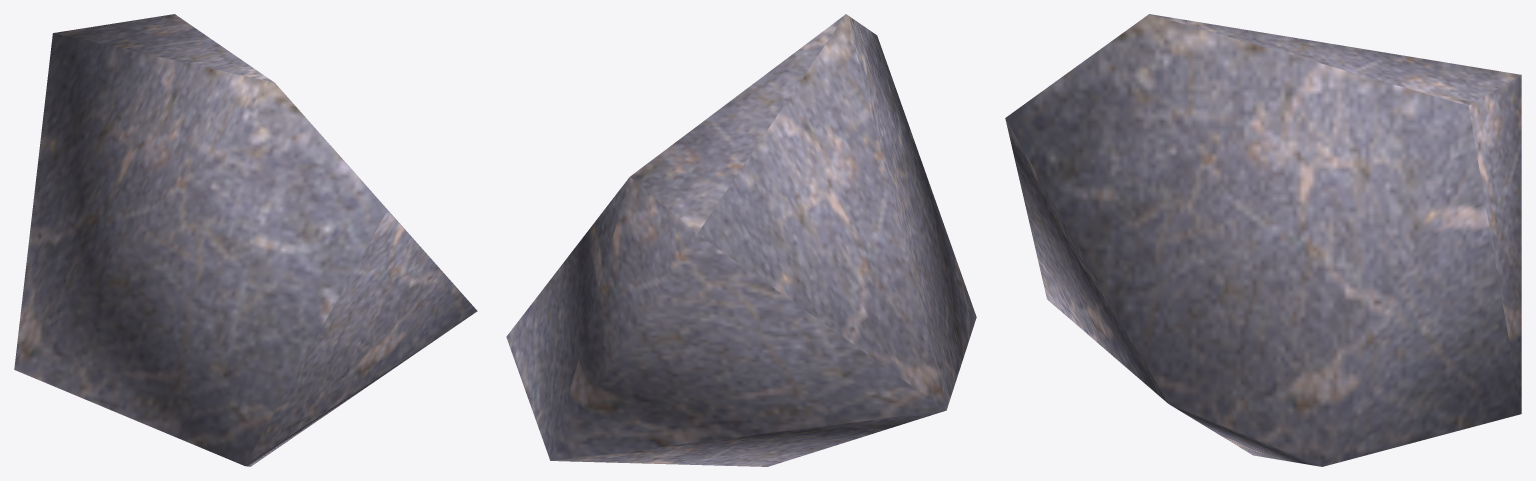
File: Type3_Rock_small_1.fbx
3 renders of one model, left to right at view 1: azimuth 30°, elevation 25°; view 2: azimuth 150°, elevation 25°; view 3: azimuth 270°, elevation 25°, orthographic.
Parts seen in each view (by area): view 1: Type3_Rock_small_1; view 2: Type3_Rock_small_1; view 3: Type3_Rock_small_1.
Boxes of the visible parts, x1,y1,x2,y2 form: Type3_Rock_small_1: (14, 14, 477, 466); Type3_Rock_small_1: (506, 14, 976, 466); Type3_Rock_small_1: (1005, 14, 1521, 466).
Bounding box in the file's own units: 1.11 × 1.03 × 1.13.
